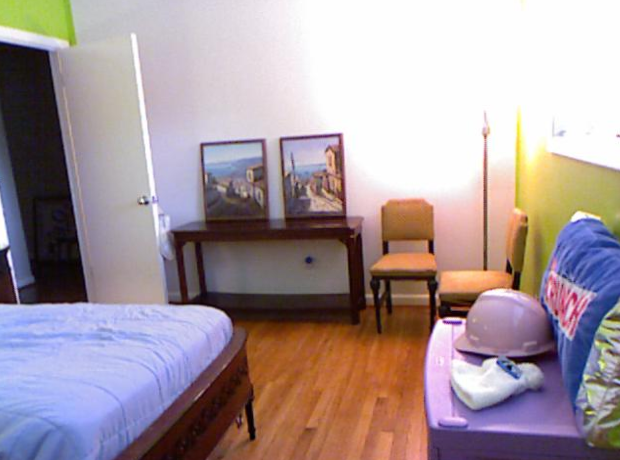chair: (371, 200, 436, 331), (438, 207, 529, 291)
door: (97, 44, 148, 304)
